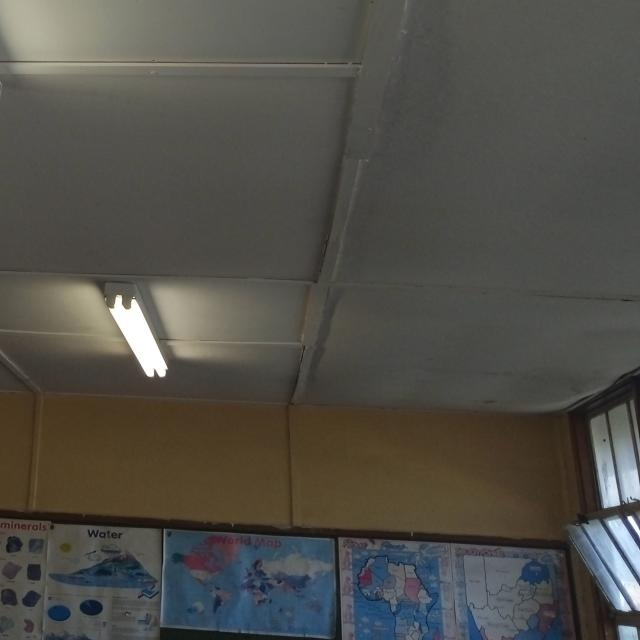fluorescent tube: (103, 255, 199, 400), (0, 0, 29, 131)
